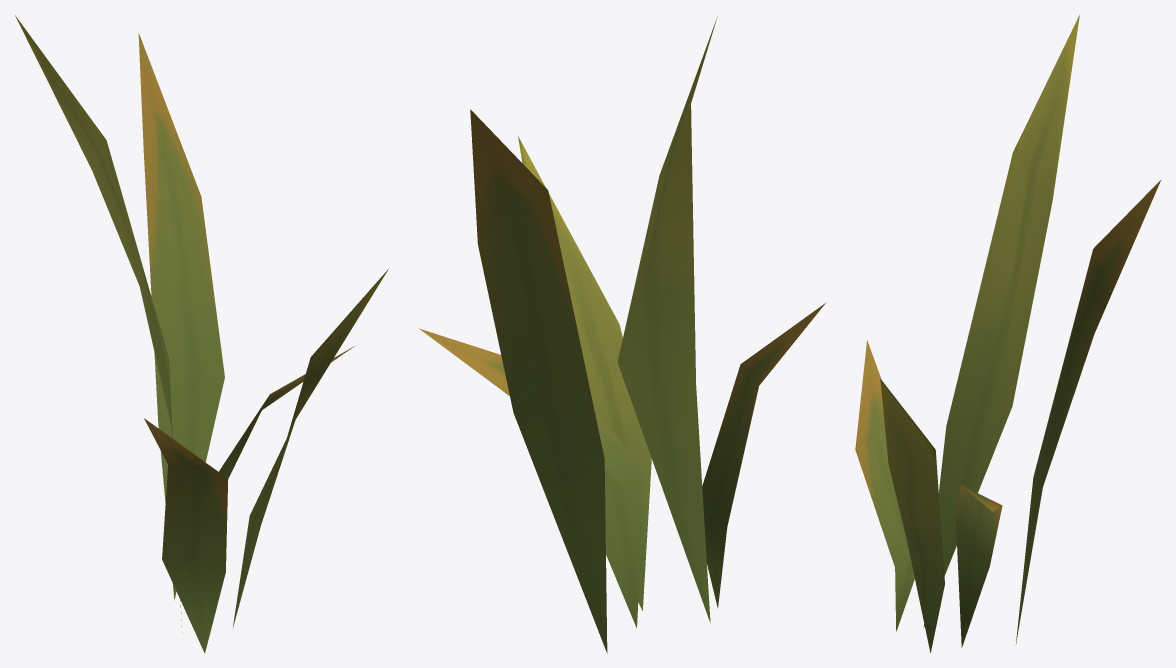
The model's file is grass_5.obj.
The picture shows the model from 3 angles, left to right: view 1: azimuth 30°, elevation 25°; view 2: azimuth 150°, elevation 25°; view 3: azimuth 270°, elevation 25°; orthographic projection. The views are drawn at different scales.
Parts seen in each view (by area): view 1: grass_5; view 2: grass_5; view 3: grass_5.
Boxes of the visible parts, box(x1,y1,x2,y2) form: grass_5: box(15, 15, 388, 653); grass_5: box(419, 16, 825, 653); grass_5: box(855, 14, 1161, 652).
Bounding box in the file's own units: 1.91 × 3.64 × 1.76.
1 material, 1 textured.
